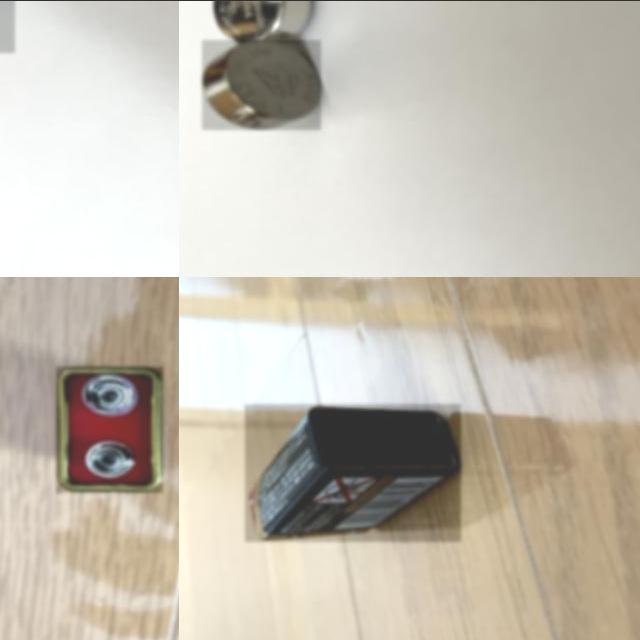9V: (245, 403, 461, 541), (56, 365, 163, 492)
